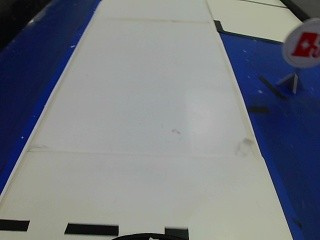battery: (280, 16, 318, 73)
